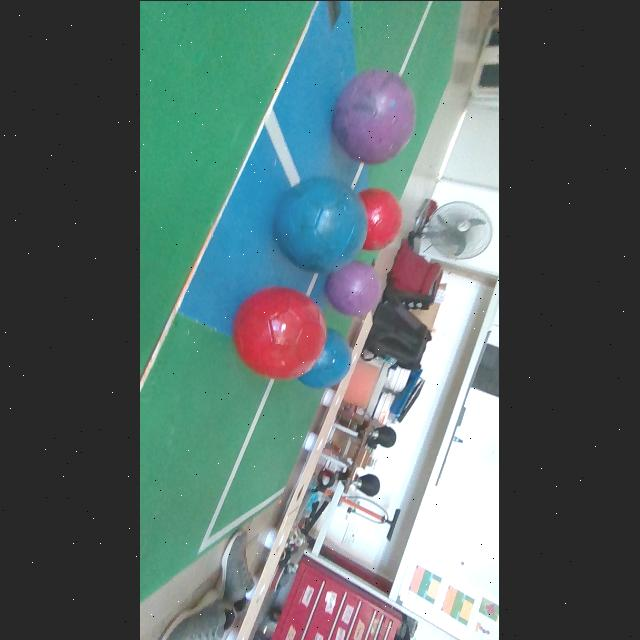B: (274, 176, 369, 271), (299, 328, 352, 387)
P: (334, 68, 415, 163), (327, 259, 382, 315)
R: (234, 286, 327, 378), (360, 187, 402, 250)
